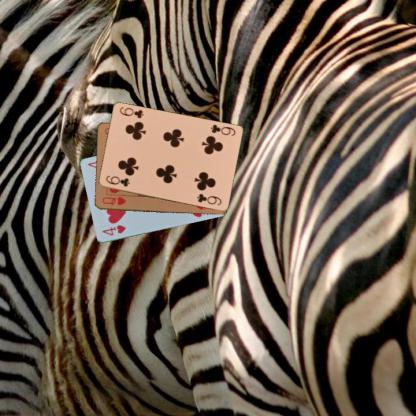4h: (99, 222, 127, 237)
6c: (208, 122, 236, 137), (103, 173, 130, 188)
Qh: (99, 194, 127, 207)
